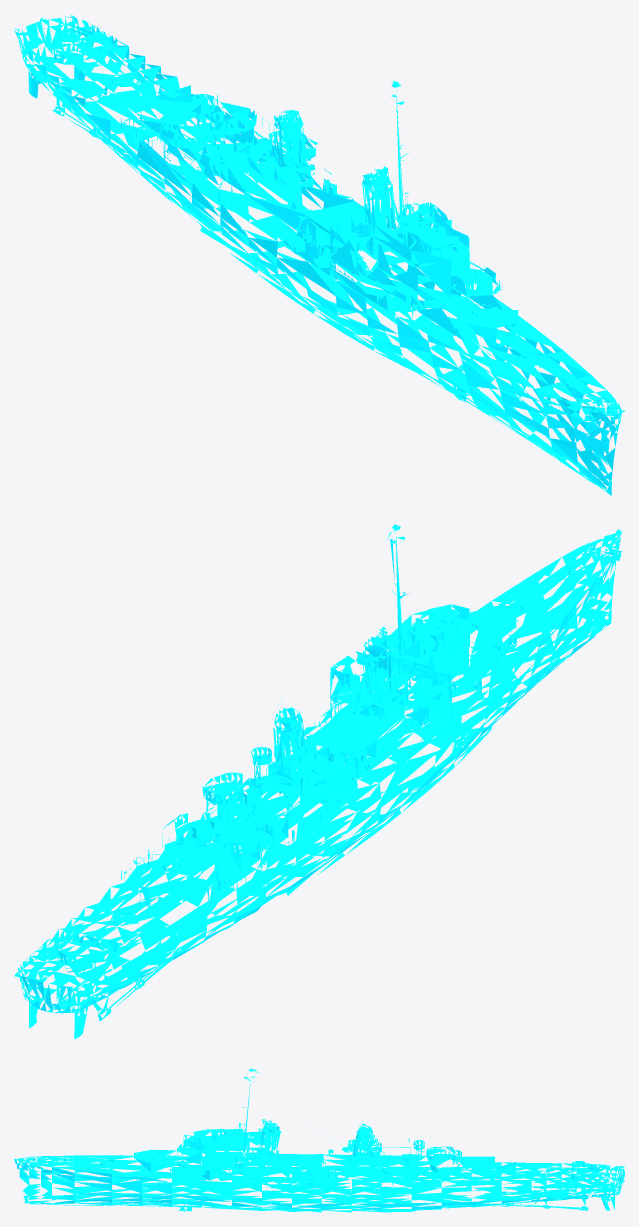
Rendered from Gearing.glb.
3 renders of one model, top to bottom at view 1: azimuth 30°, elevation 25°; view 2: azimuth 150°, elevation 25°; view 3: azimuth 270°, elevation 25°, orthographic. The views are drawn at different scales.
Bounding box in the file's own units: 0.8364 × 2.06 × 7.93.
